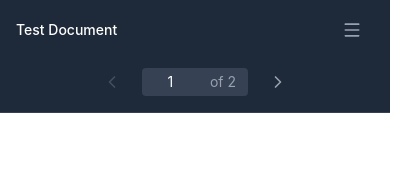
Mobile Responsiveness Tests › Toolbar Responsiveness › should have collapsible menu on mobile
Click to open menu
Click the button with test id "mobile-menu-button".
click(352, 30)  # box [330,8,374,52]
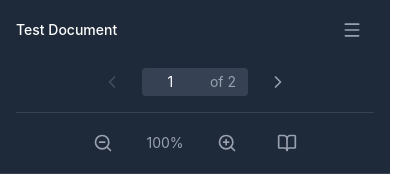
Expected: the element with test id "mobile-controls-menu" is shown, [16,112,374,165]
Click to close menu
Click the button with test id "mobile-menu-button".
click(352, 30)  # box [330,8,374,52]
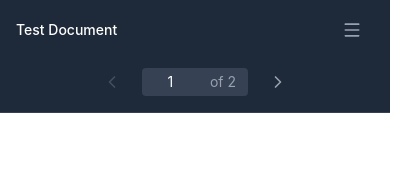
Expected: the element with test id "mobile-controls-menu" is gone
